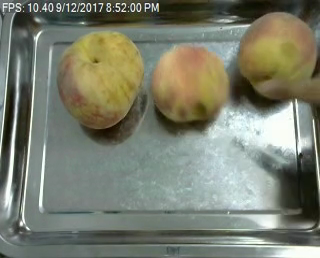Peach: (56, 29, 143, 130), (238, 10, 318, 101), (152, 43, 230, 122)
